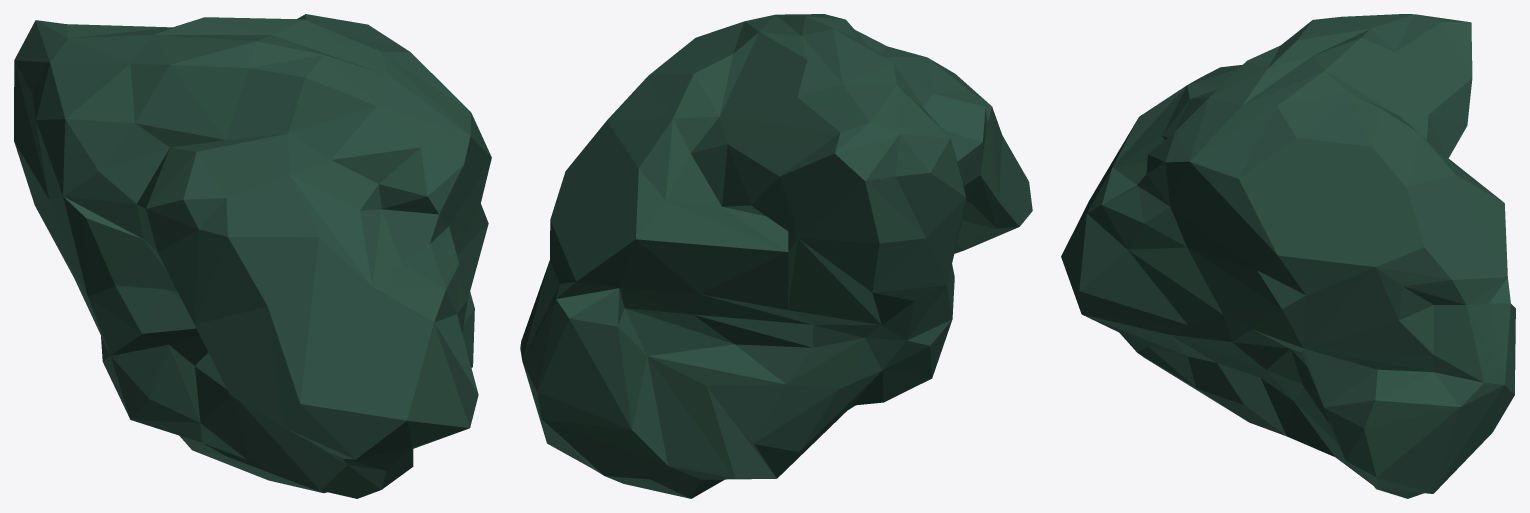
Rendered from SM_large_rock_40.fbx.
The picture shows the model from 3 angles, left to right: view 1: azimuth 30°, elevation 25°; view 2: azimuth 150°, elevation 25°; view 3: azimuth 270°, elevation 25°; orthographic projection. The views are drawn at different scales.
Visible parts, largest first — view 1: large_rock_40; view 2: large_rock_40; view 3: large_rock_40.
Boxes of the visible parts, x1,y1,x2,y2 form: large_rock_40: [14, 14, 491, 498]; large_rock_40: [520, 14, 1032, 498]; large_rock_40: [1061, 14, 1515, 498].
Size of the model in its own units: 65.63 by 72.21 by 75.38.
